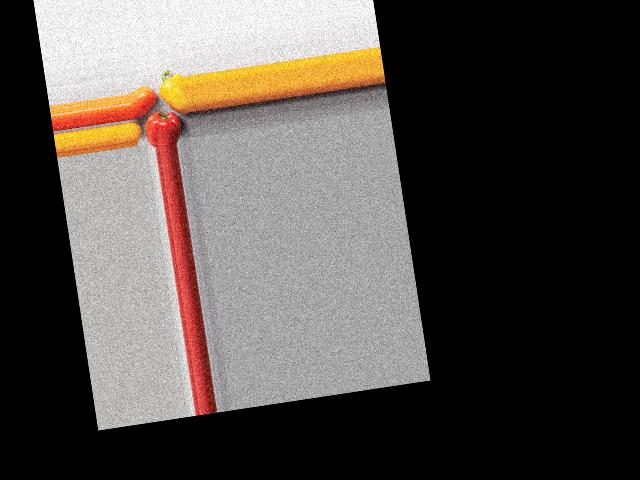bell_pepper: (143, 109, 186, 147)
